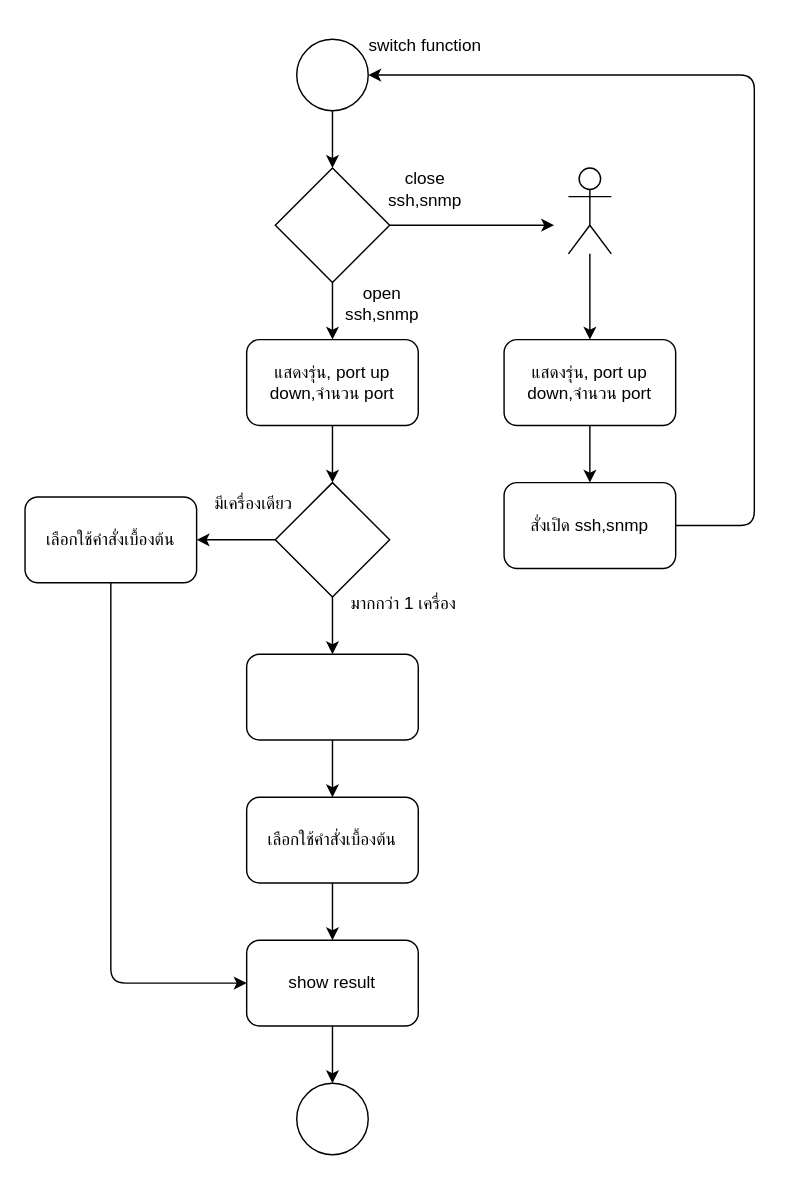
Some shapes in this 791 by 1180 pixel diagram are drawn without their labels. Each missing label, with the centre of its shape:
"ssh,snmp" belongs at point 332,224.
"ต่อสาย console" belongs at point 589,210.
"เลือกเครื่อง เลือกรุ่น" belongs at point 331,696.
